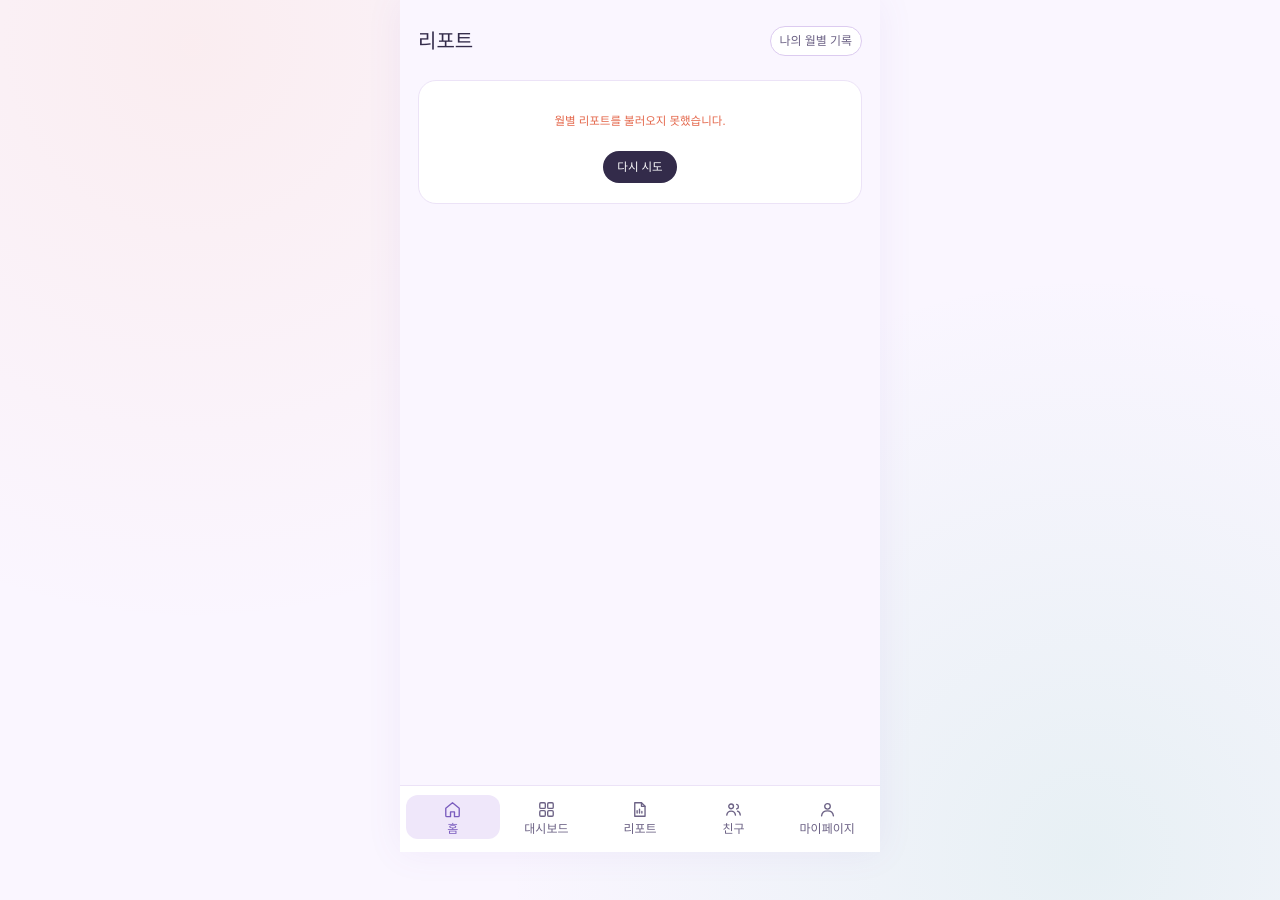
it: ReportPage › 요청 실패 후 다시 시도해 서버 리포트를 표시한다
Expected: the message shows "월별 리포트를 불러오지 못했습니다.", [554,112,726,128]
Click the button "다시 시도" at (640, 167), box [603,151,677,183]
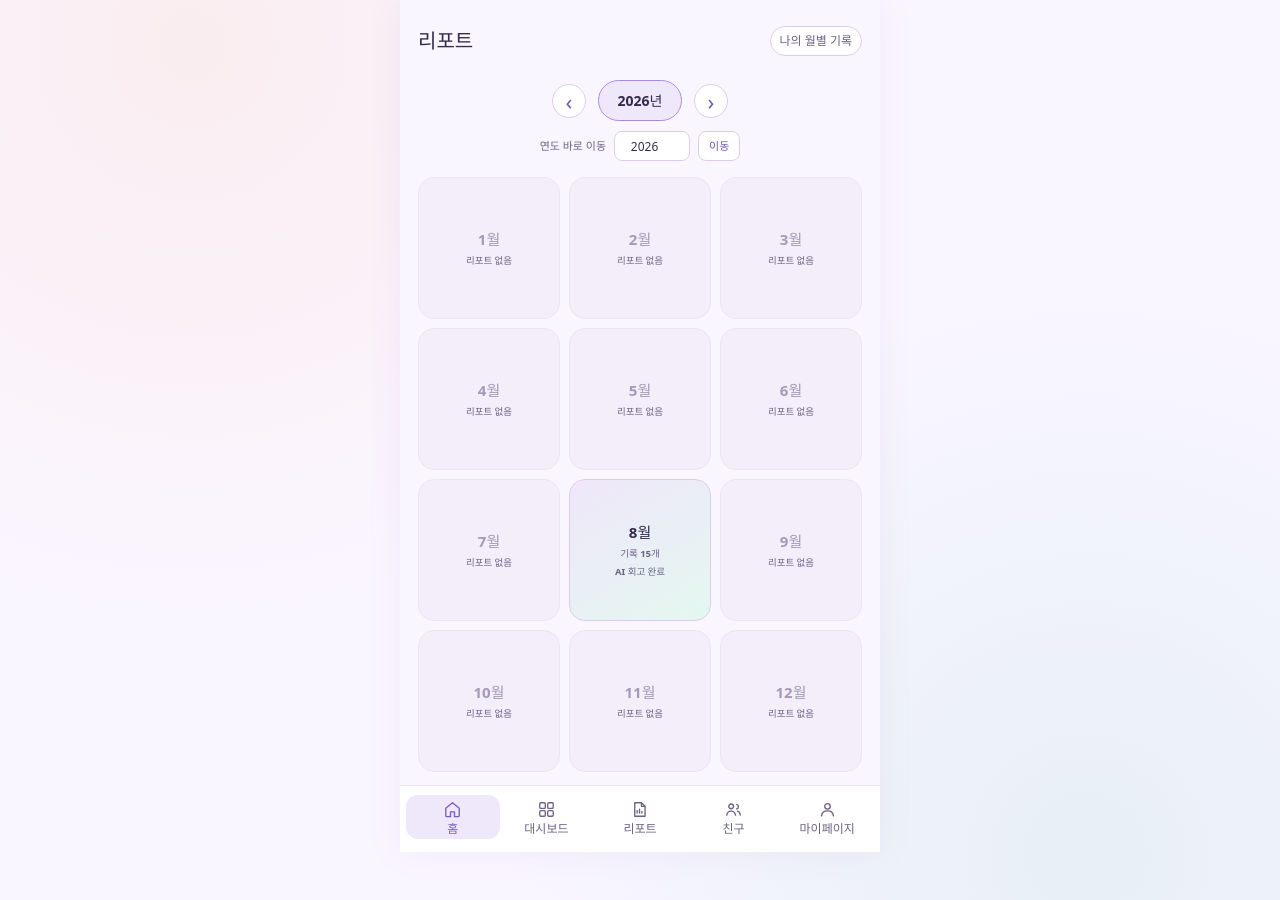
Result: the link with aria-label "8월 리포트" is shown at [569,479,711,621]
